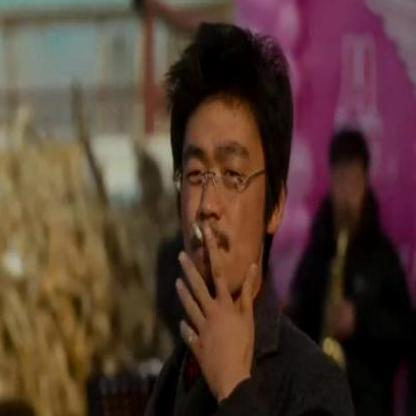cigarette: (190, 220, 202, 248)
person: (160, 30, 300, 416)
